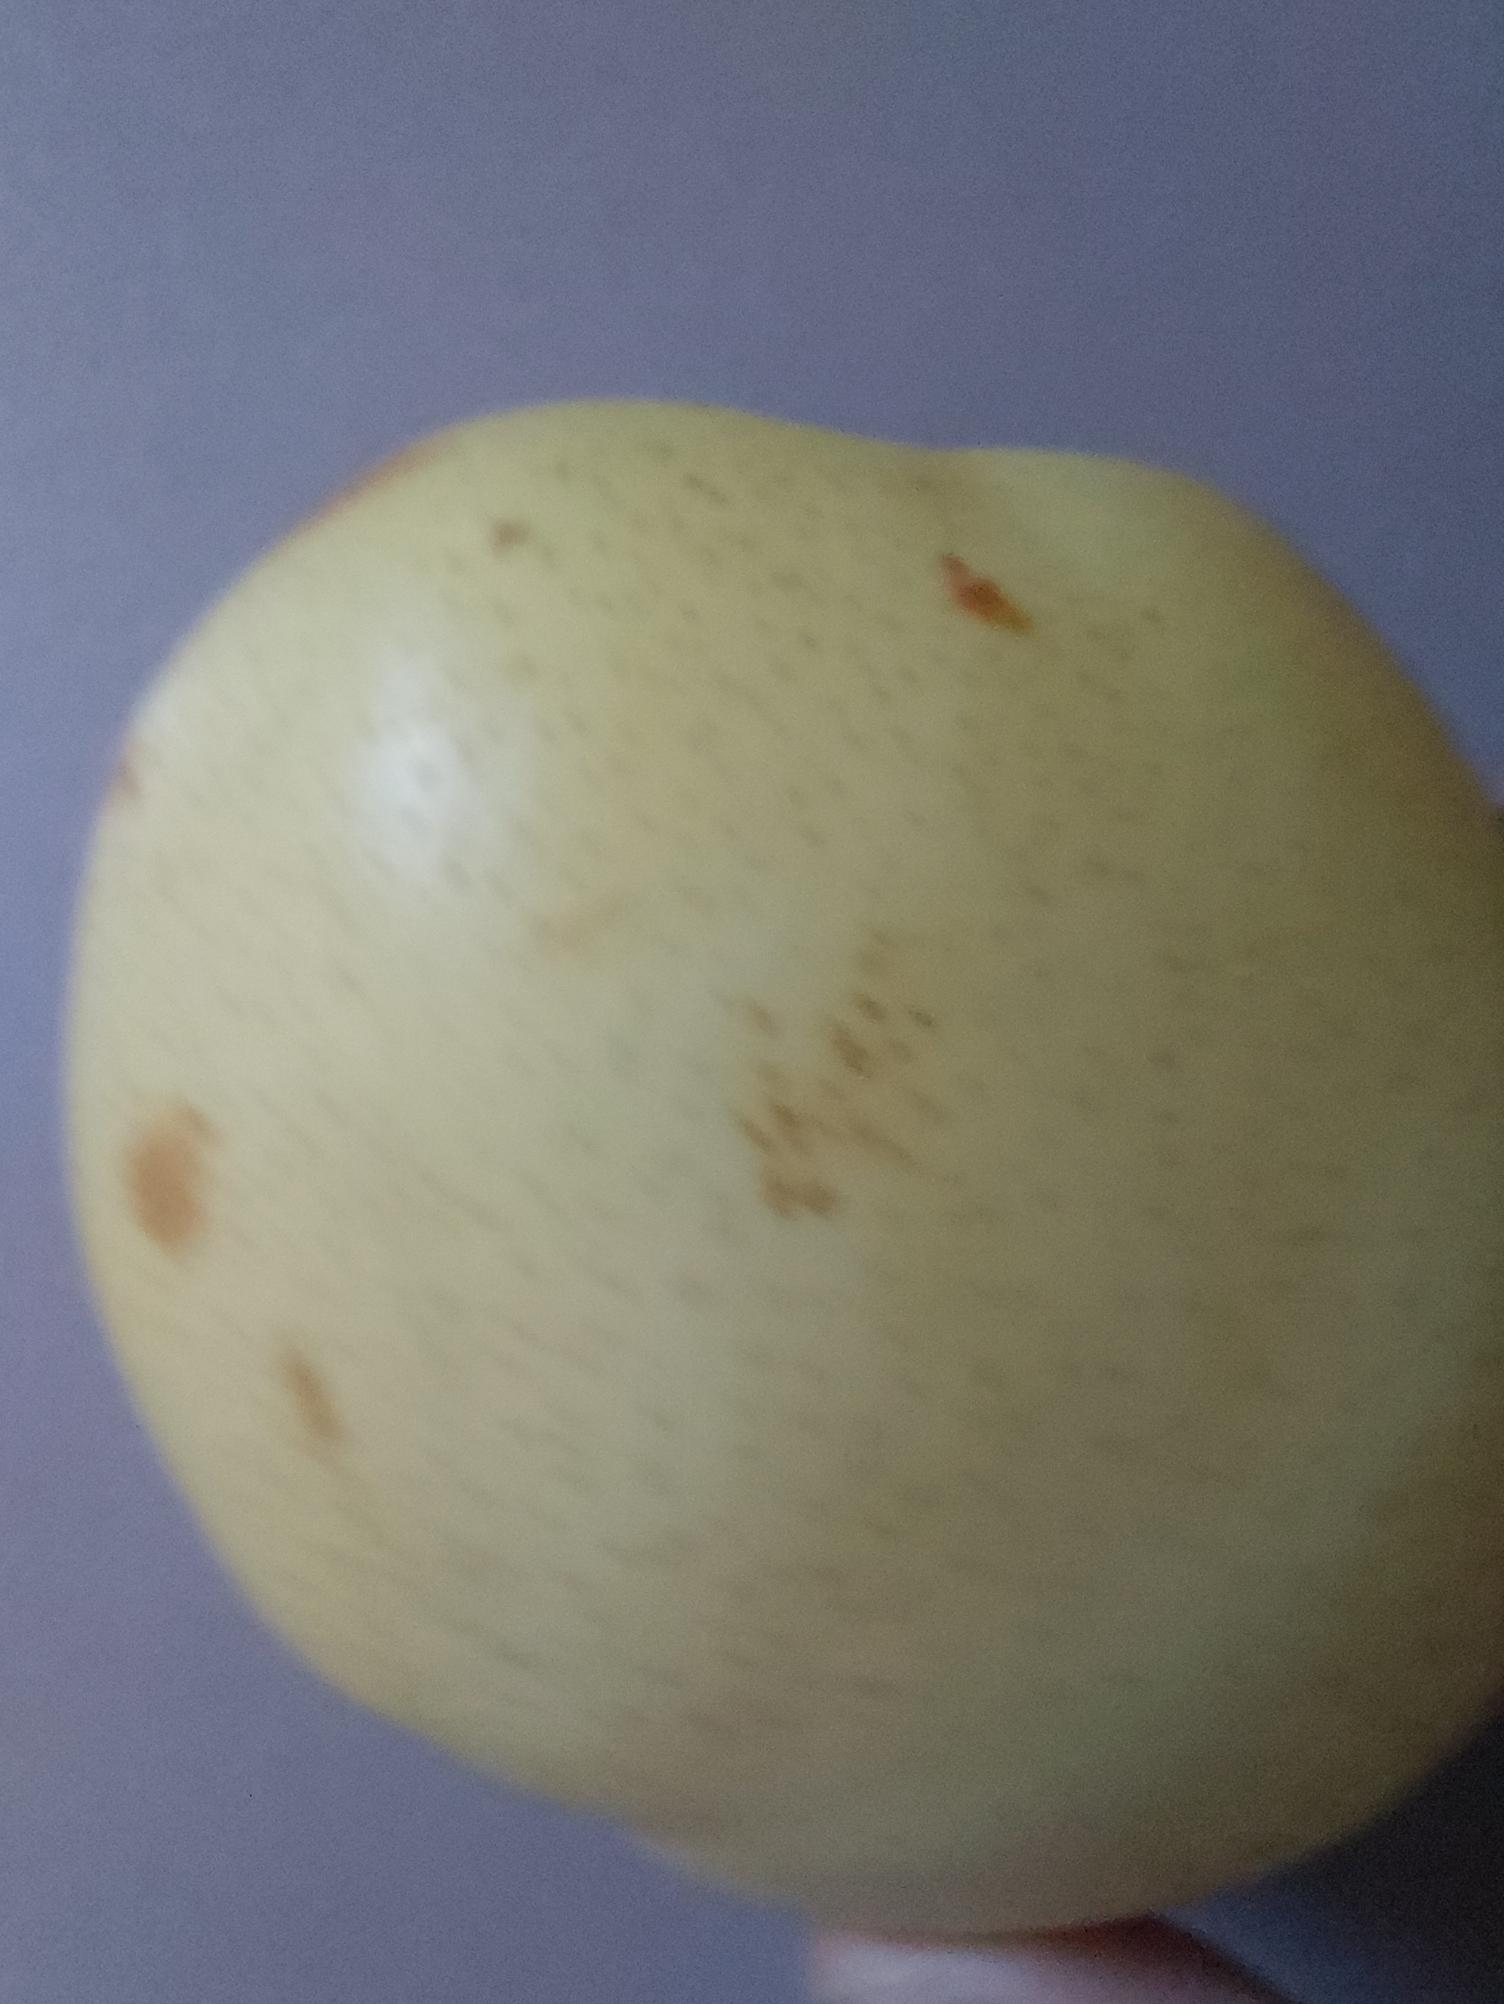Good Pear: (44, 403, 1504, 1897)
